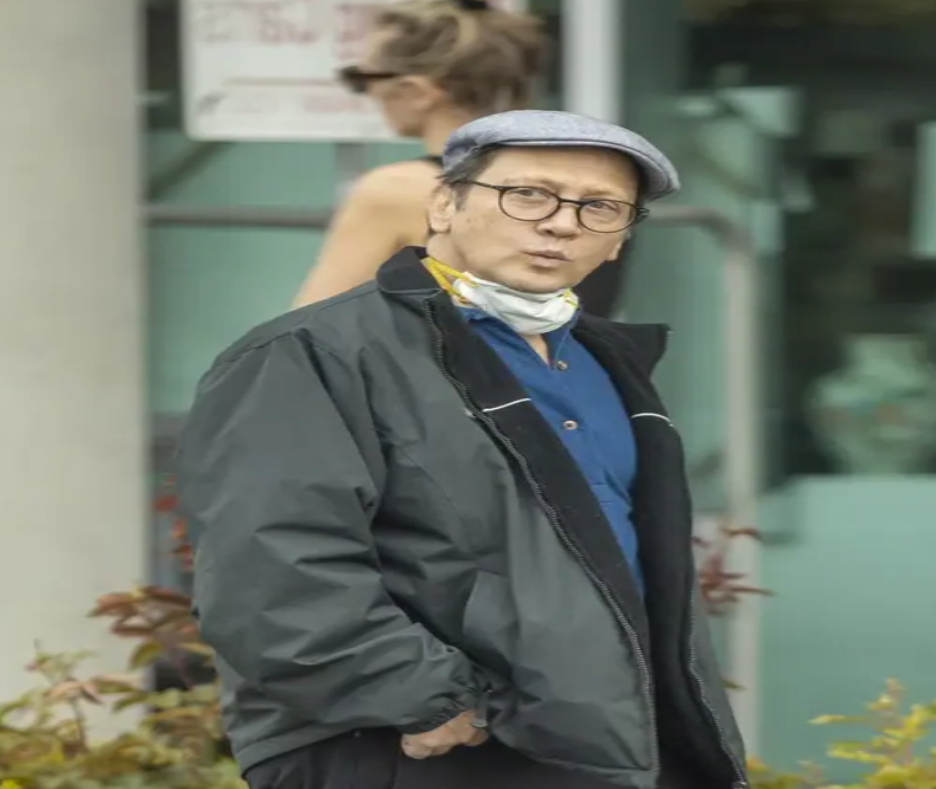mask_weared_incorrect: (398, 104, 682, 339)
